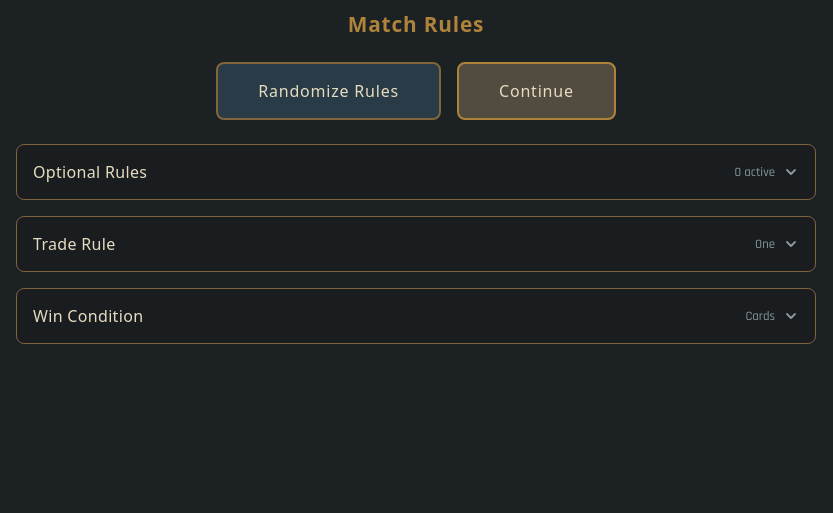
Test: RuleSelectScreen Win Condition section › shows both options when opened, with Cards selected by default
Click the button "Win Condition Cards" at point(88, 316), box [17,289,815,343]
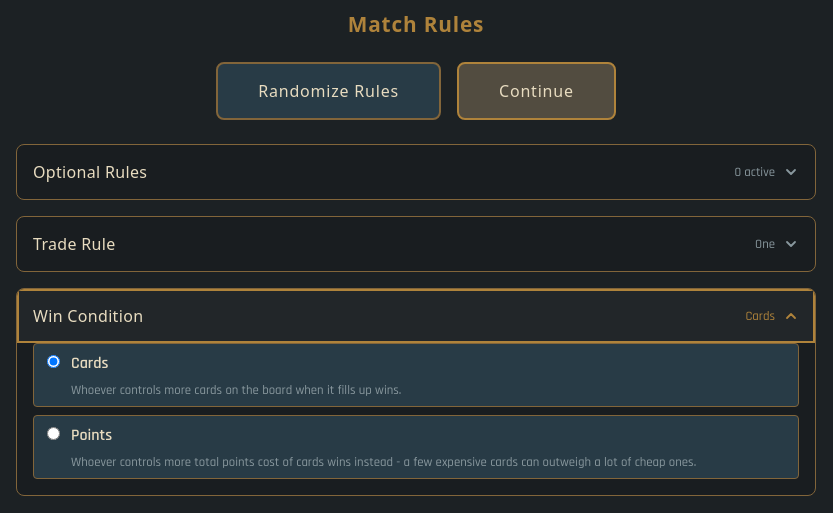
Check: the radio button labelled "Cards" is checked, box [47,355,60,368]
Check: the radio button labelled "Points" is not checked, box [47,427,60,440]
